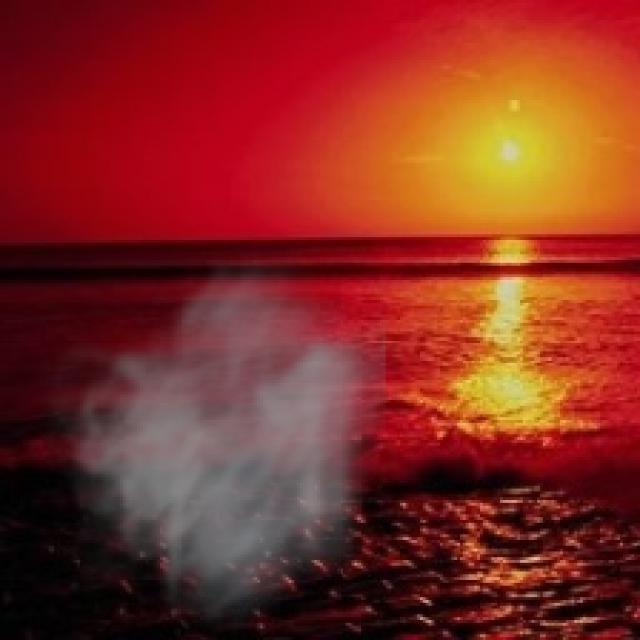smoke: (34, 246, 389, 637)
